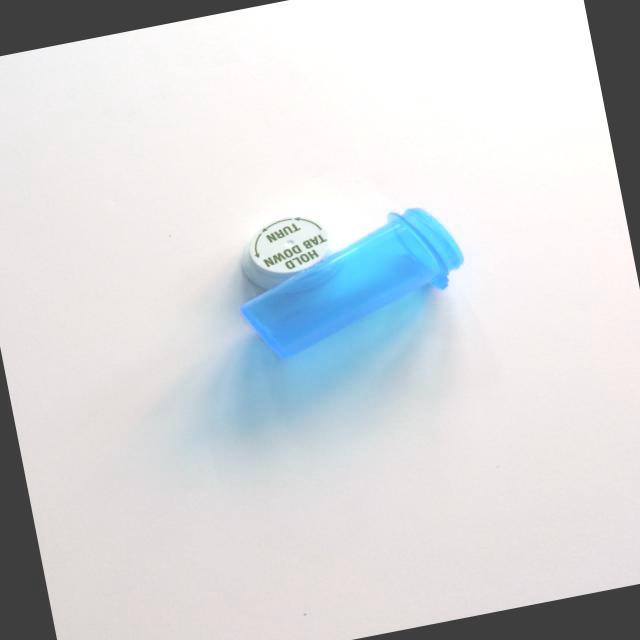plastic: (199, 142, 478, 382)
